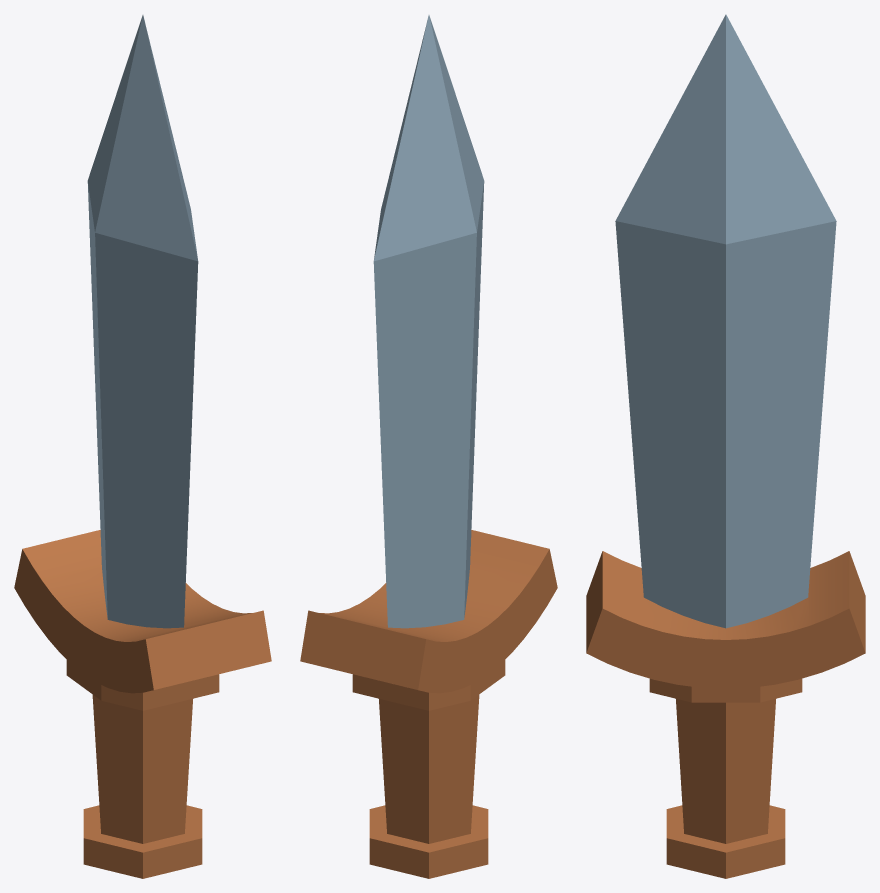
Rendered from sword.obj.
The picture shows the model from 3 angles, left to right: view 1: azimuth 30°, elevation 25°; view 2: azimuth 150°, elevation 25°; view 3: azimuth 270°, elevation 25°; orthographic projection.
Size of the model in its own units: 0.7952 by 5.35 by 1.62.
